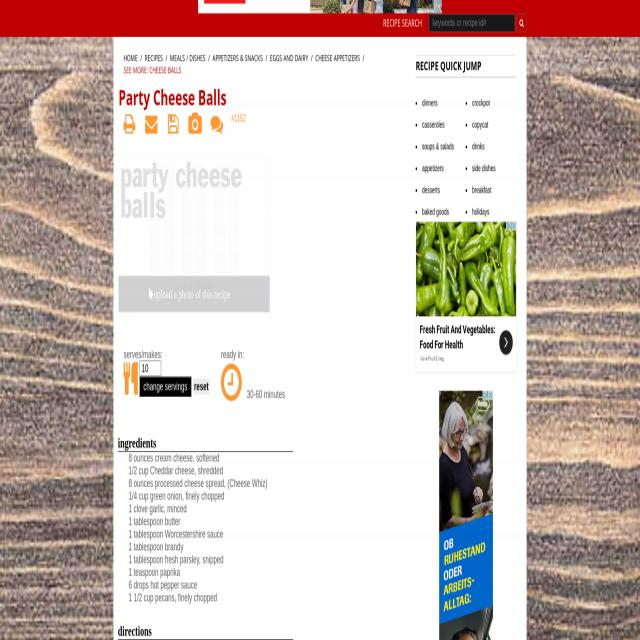button: (416, 220, 516, 372), (439, 390, 492, 640), (119, 276, 269, 312), (139, 376, 191, 396), (206, 113, 228, 135), (499, 331, 514, 355), (188, 113, 202, 135), (124, 113, 136, 135), (145, 113, 157, 135), (193, 378, 209, 394), (168, 113, 178, 135), (516, 14, 526, 32)
field: (429, 14, 515, 32), (139, 360, 161, 376)
